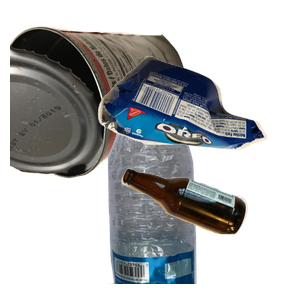glass: (119, 166, 300, 300)
metal: (10, 23, 193, 194)
plastic: (96, 120, 285, 300)
trash: (95, 53, 300, 195)
